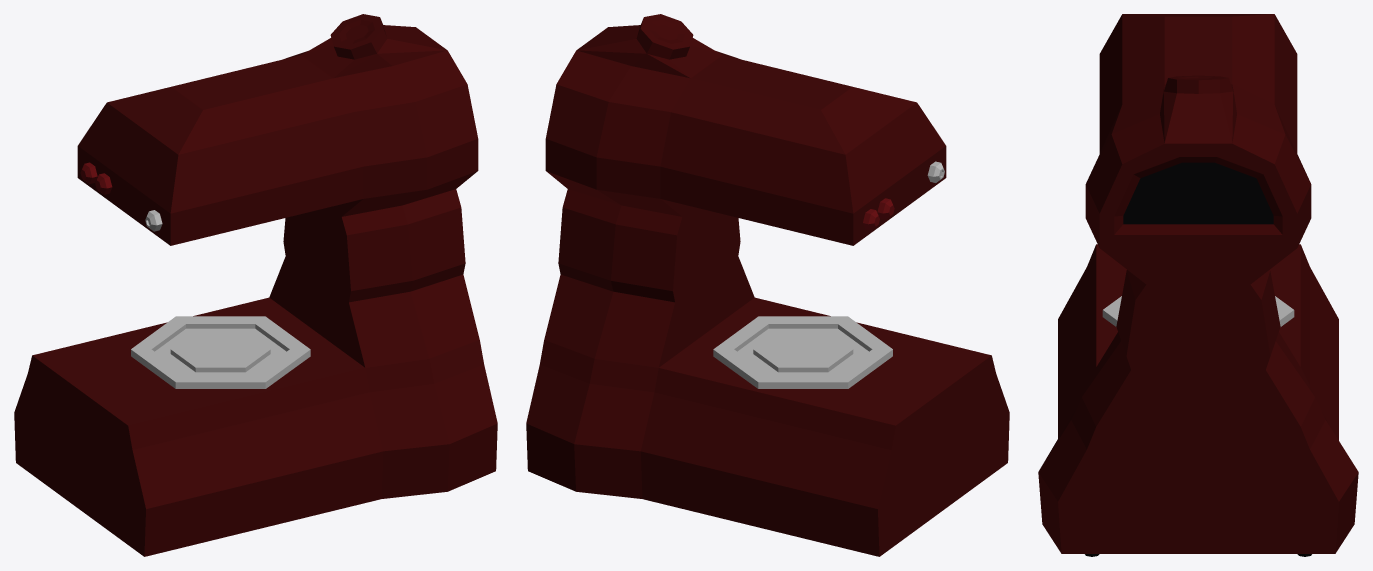
The model's file is coffee machine lvl3.fbx.
3 renders of one model, left to right at view 1: azimuth 30°, elevation 25°; view 2: azimuth 150°, elevation 25°; view 3: azimuth 270°, elevation 25°, orthographic. The views are drawn at different scales.
Visible parts, largest first — view 1: Cube.004; view 2: Cube.004; view 3: Cube.004.
Boxes of the visible parts, <box> form: Cube.004: <box>14,14,497,556</box>; Cube.004: <box>526,14,1009,556</box>; Cube.004: <box>1038,14,1358,556</box>.
Size of the model in its own units: 170 by 230 by 267.
1 material, 1 textured.
